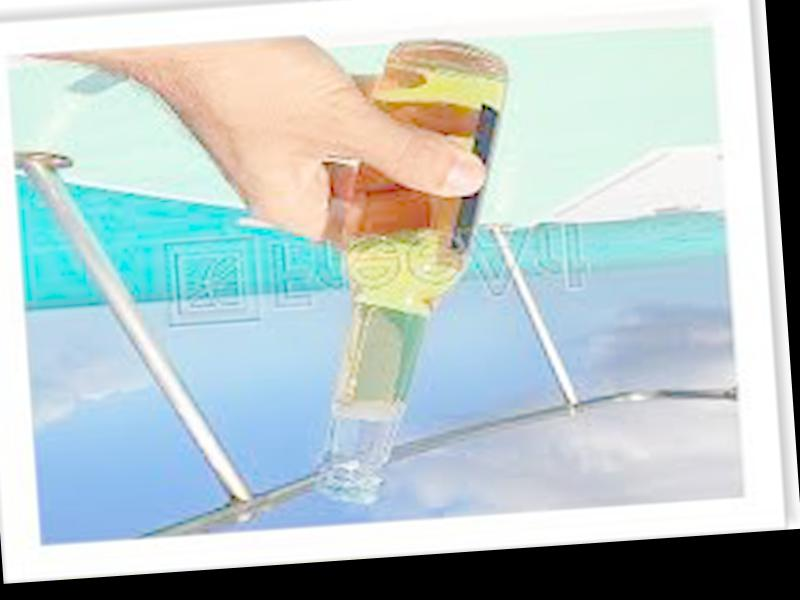Beer: (275, 40, 540, 504)
